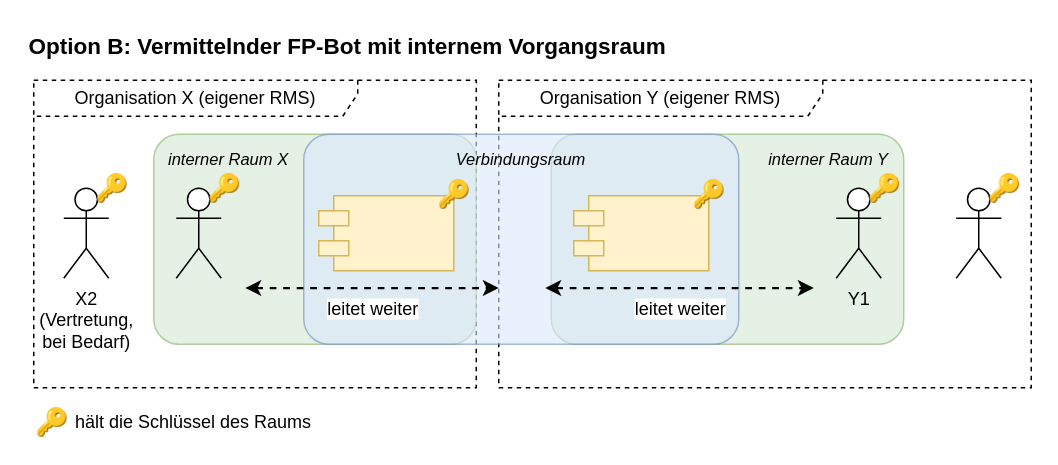
Some shapes in this 1058 by 465 pixel diagram are drawn without their labels. Each missing label, with the centre of its shape:
FP-Bot X: the point at 385,232
FP-Bot Y: the point at 640,232
X1: the point at 198,232
Y2 (Vertretung, bei Bedarf): the point at 978,232
